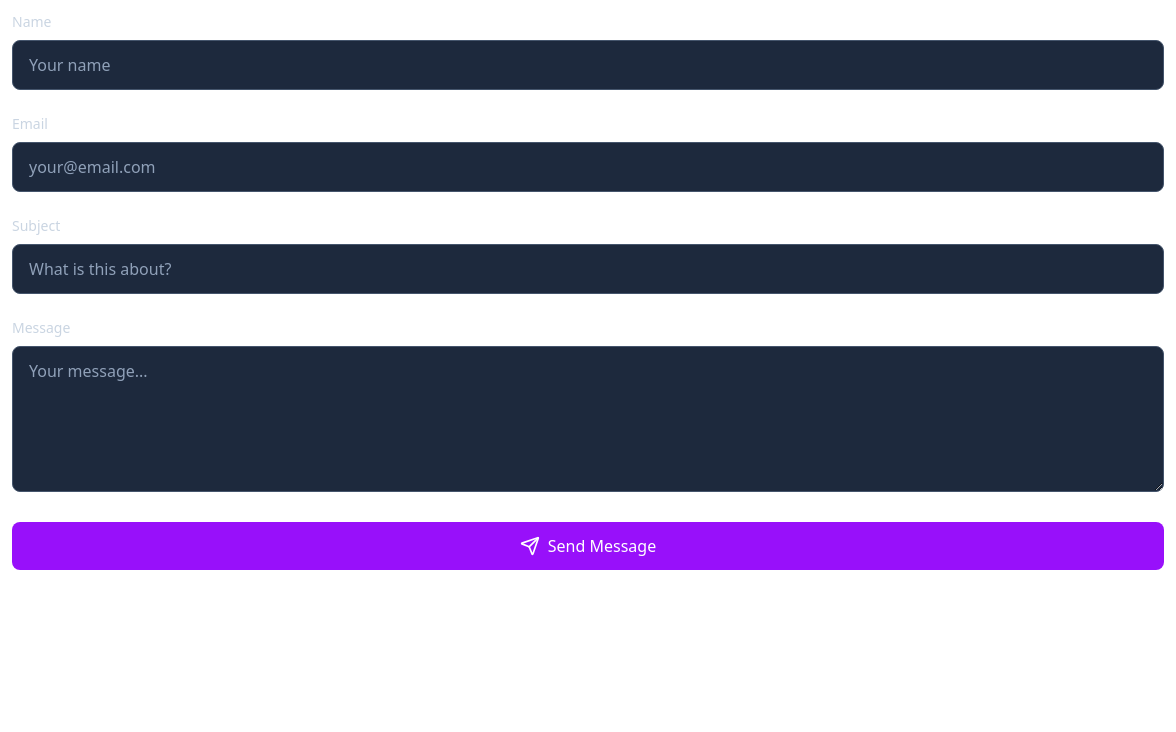
Test: ContactForm › submit handler › shows success message on successful submit
# Fill form
Type "Test User" into the field named "name".
click(588, 65); type("Test User")  # box [12, 40, 1164, 90]
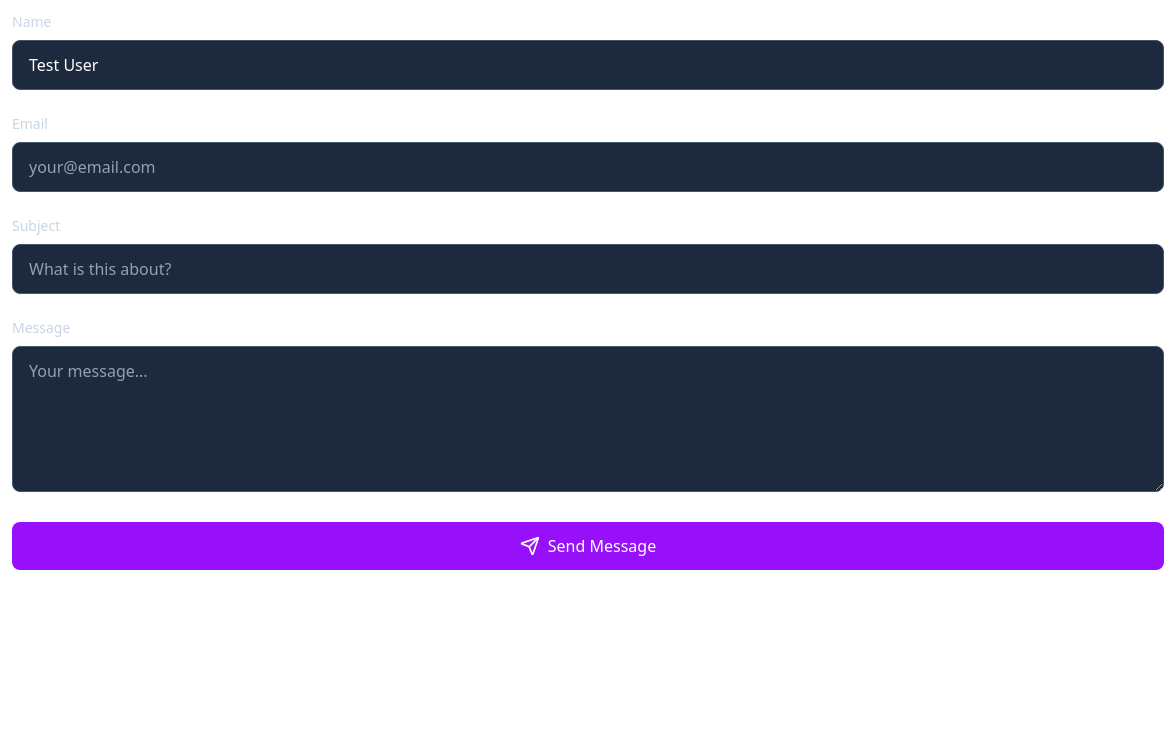
Type "test@example.com" into the field labelled "Email".
click(588, 167); type("test@example.com")  # box [12, 142, 1164, 192]
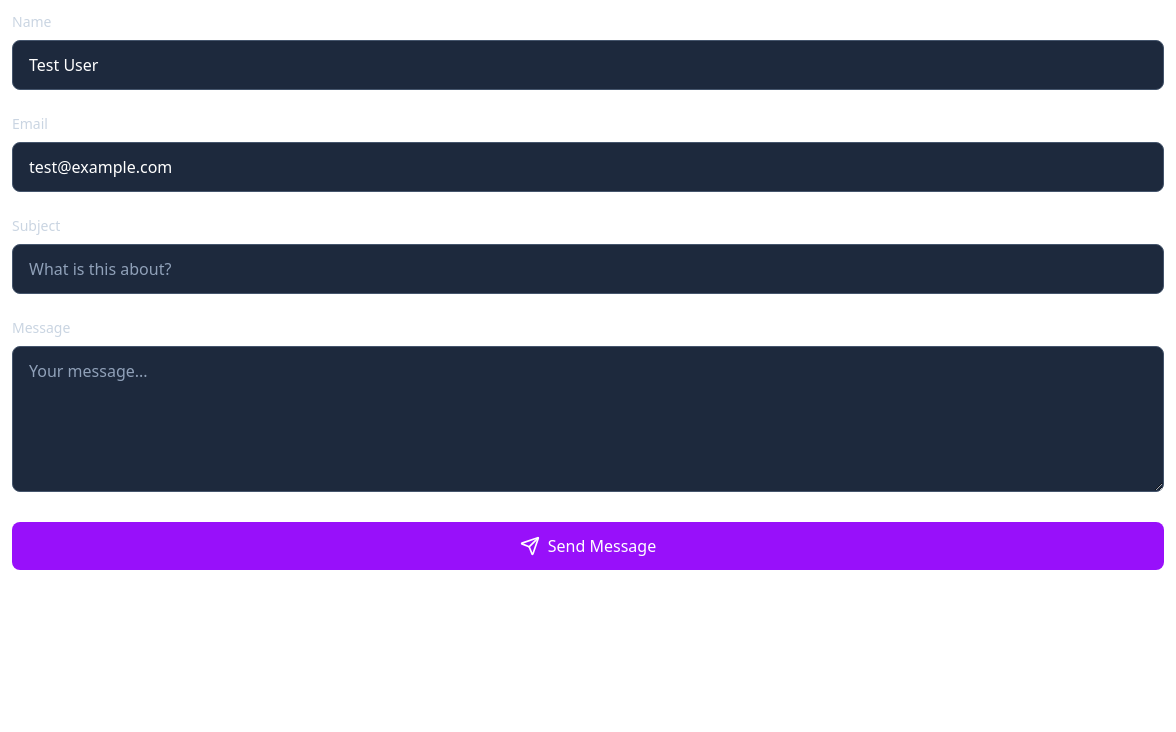
Type "Test Subject" into the field named "subject".
click(588, 269); type("Test Subject")  # box [12, 244, 1164, 294]
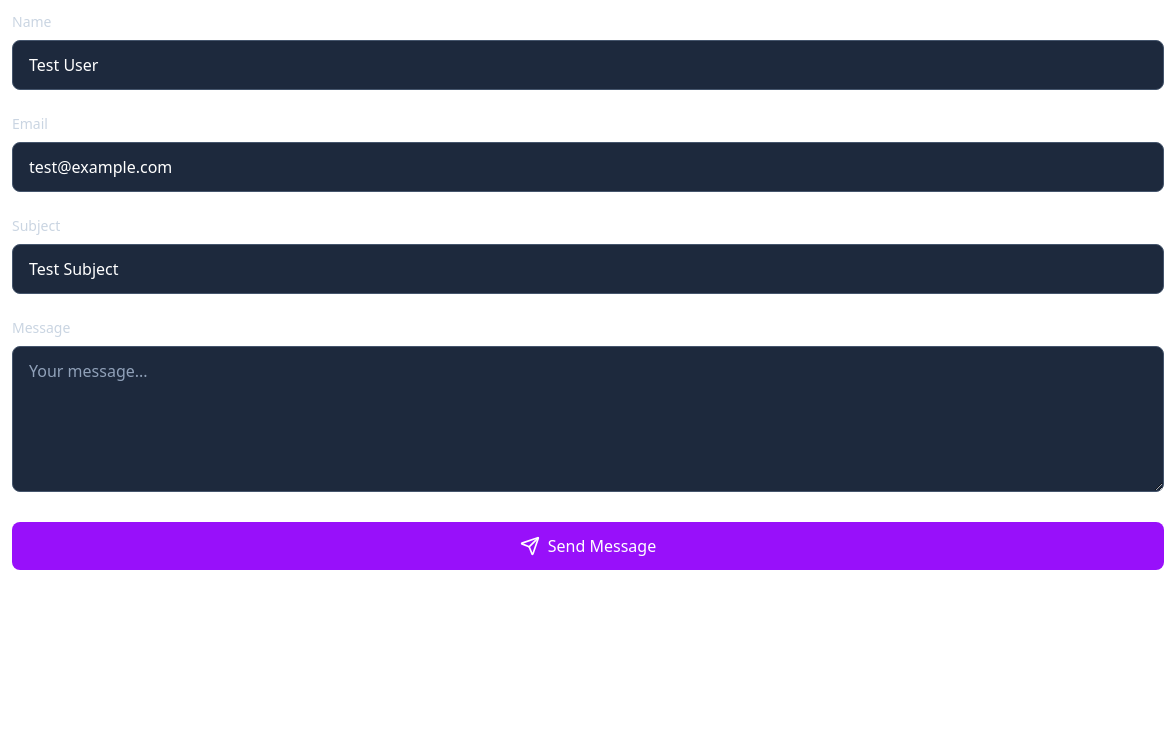
Type "Test message content" into the text box labelled "Message".
click(588, 419); type("Test message content")  # box [12, 346, 1164, 492]
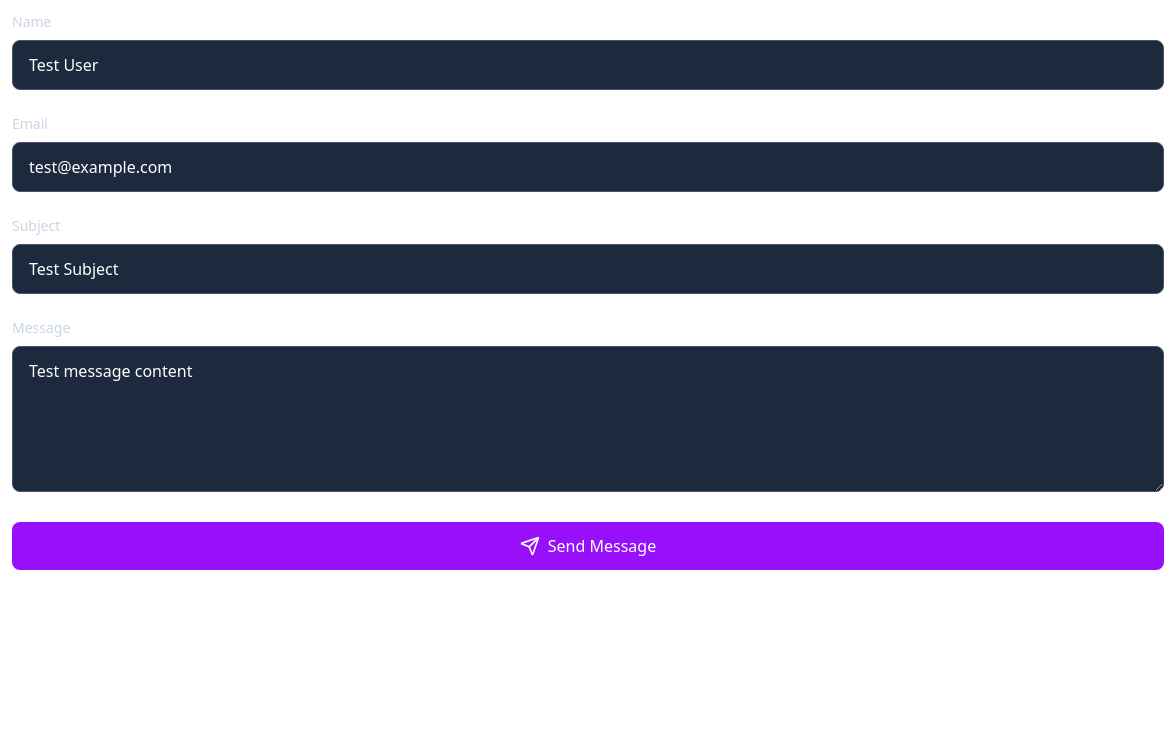
Submit the form
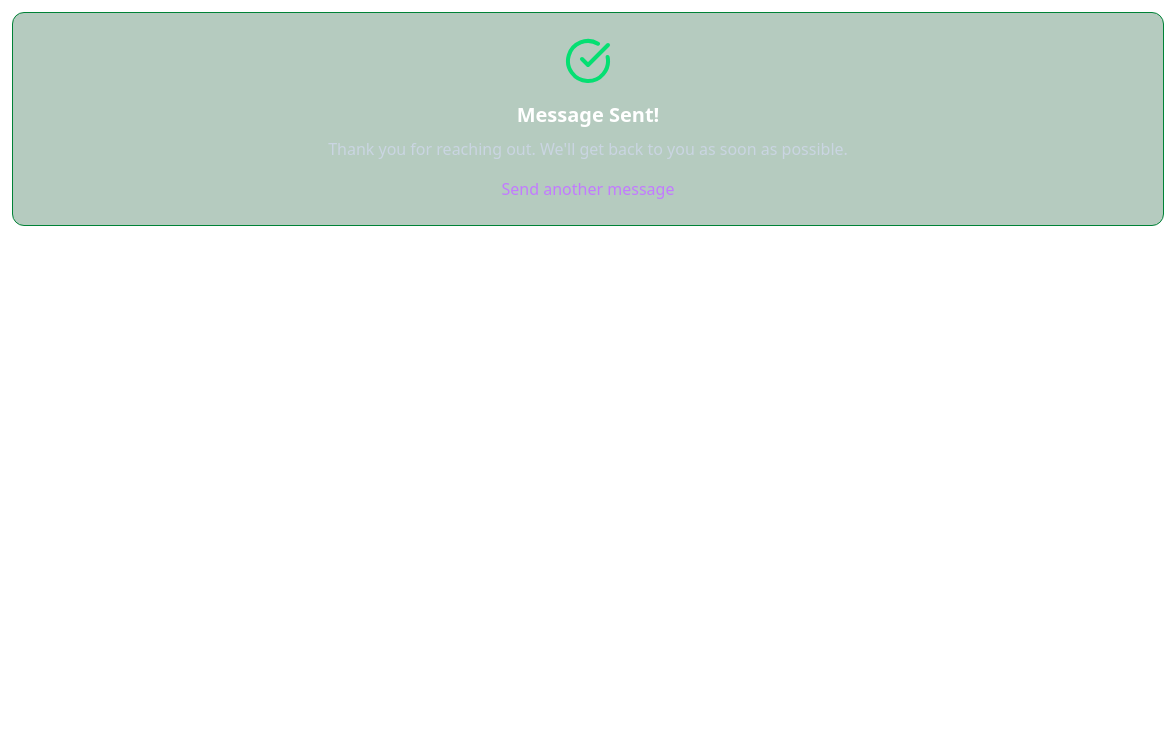
expect the text "Message Sent!" is shown: met, box [517, 101, 659, 128]
expect the text "Thank you for reaching out" is shown: met, box [328, 138, 848, 160]
